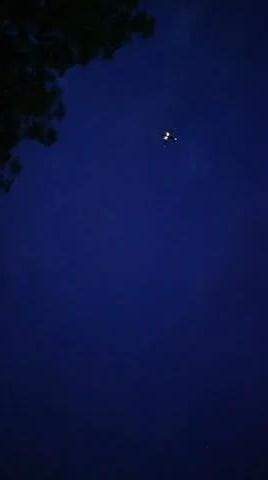Plane: (155, 125, 182, 149)
